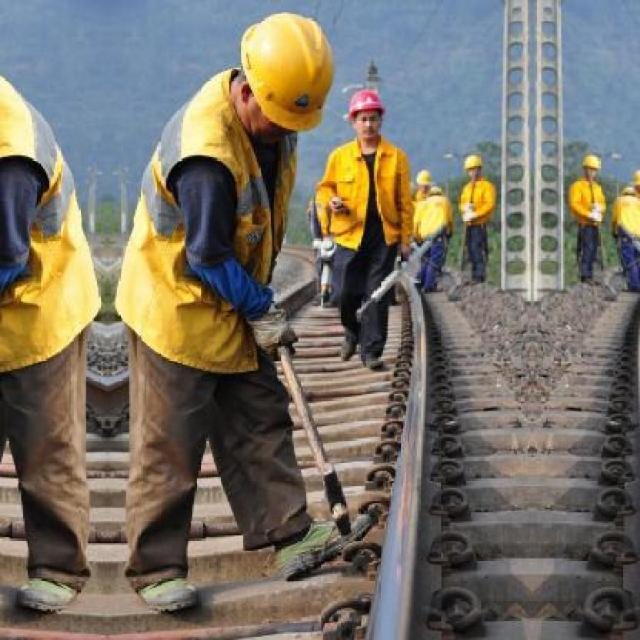Reflective-Jacket: (111, 67, 278, 376), (0, 40, 102, 382), (312, 139, 416, 263), (411, 191, 454, 246), (457, 177, 500, 229), (566, 178, 608, 230), (615, 194, 640, 251)
Safety-Helmet: (234, 10, 341, 136), (342, 85, 389, 122), (458, 149, 488, 177), (577, 151, 606, 175), (412, 164, 437, 190), (629, 166, 640, 189), (618, 185, 638, 197)
